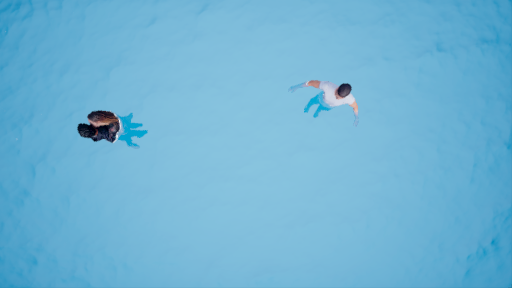person: (288, 77, 365, 126), (71, 109, 150, 151)
